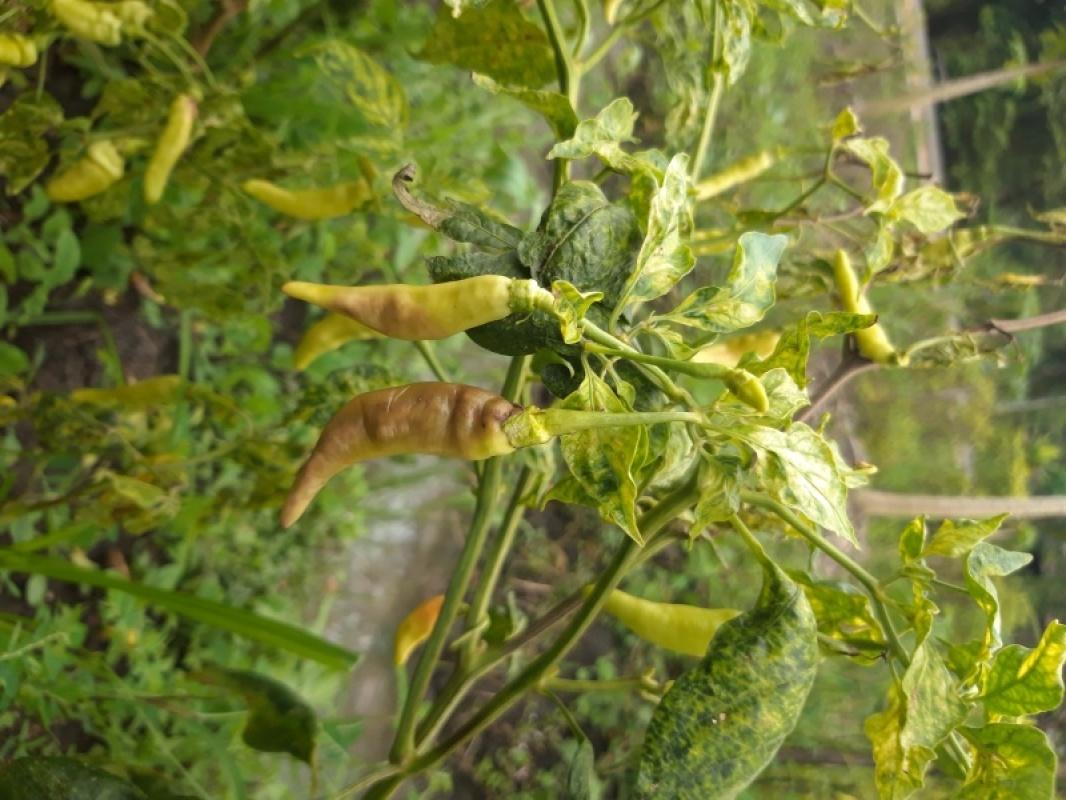antraknosa: (282, 275, 518, 344)
cabai_normal: (584, 577, 753, 658), (833, 248, 897, 370), (243, 176, 367, 223), (141, 92, 191, 204), (43, 140, 122, 202), (392, 594, 448, 667), (48, 1, 121, 46)
lalat_buah: (276, 380, 541, 529)
